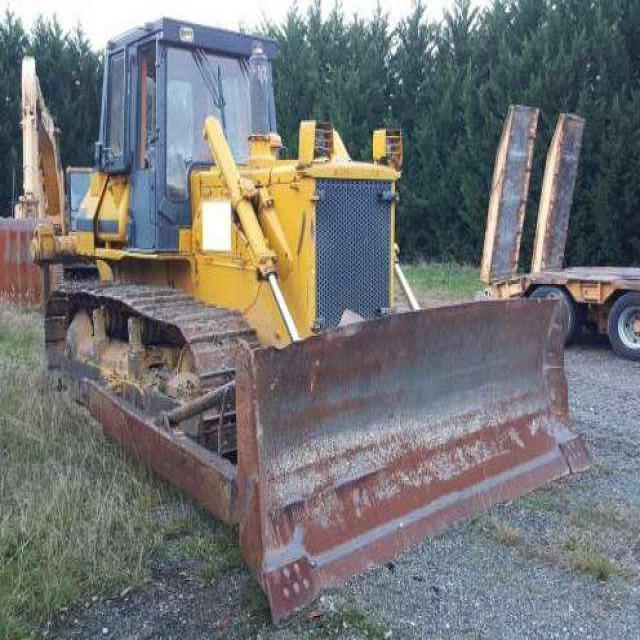Bulldozer: (28, 11, 597, 621)
